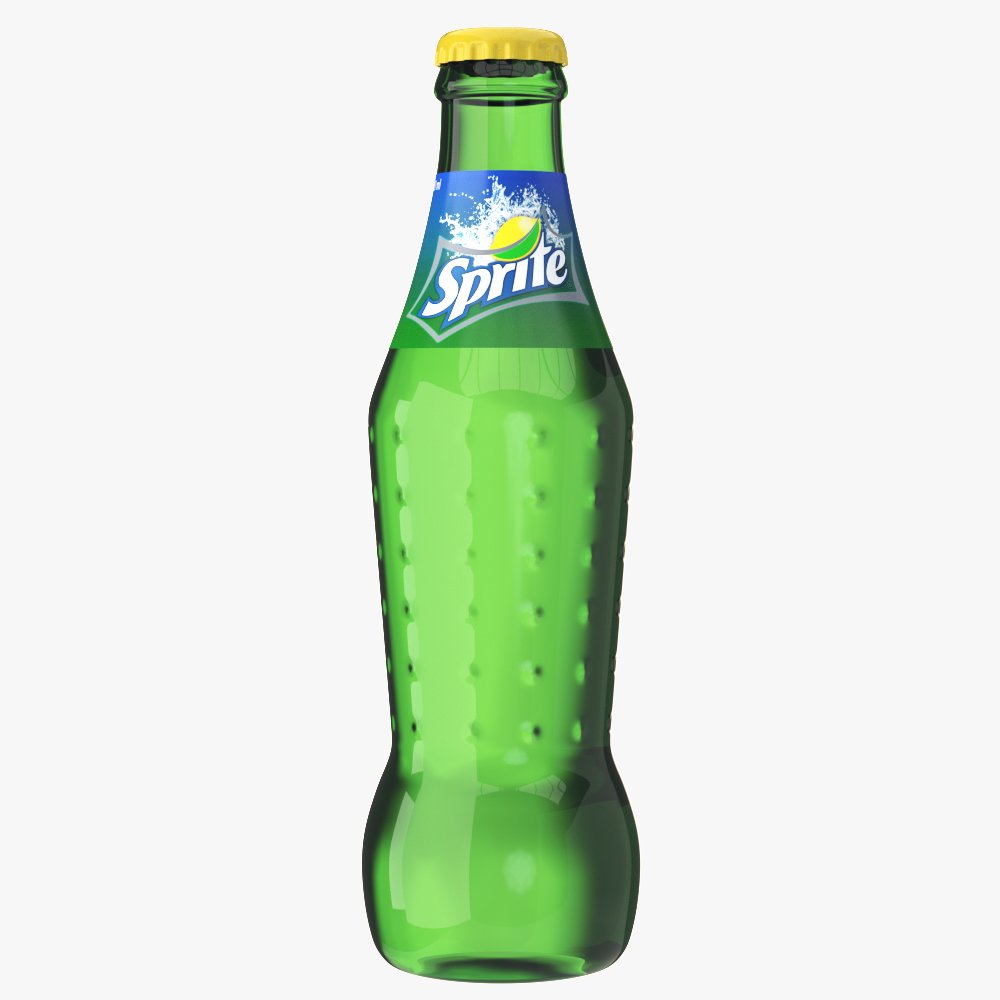glass_bottle: (353, 22, 648, 990)
